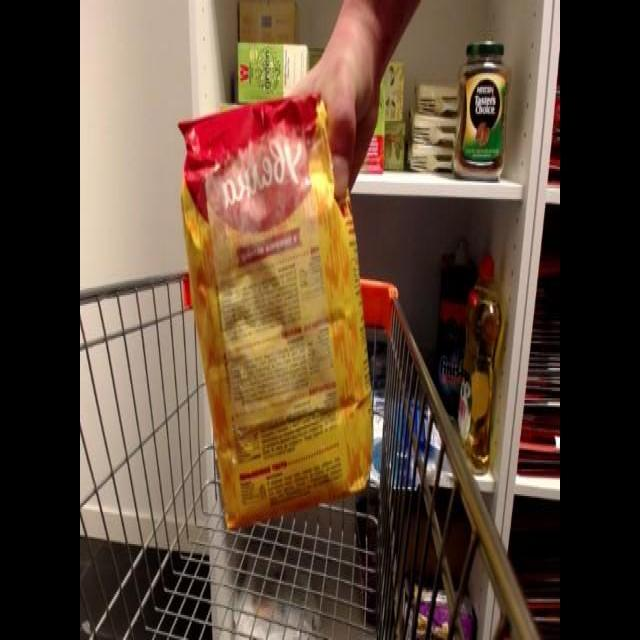Flour: (174, 67, 380, 537)
